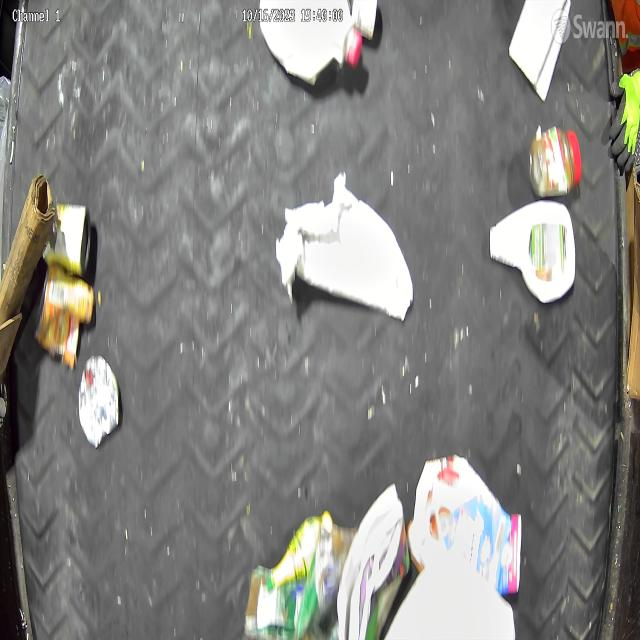can: (32, 264, 96, 371), (44, 202, 92, 278)
milk_jug: (384, 549, 516, 640), (258, 0, 362, 86)
